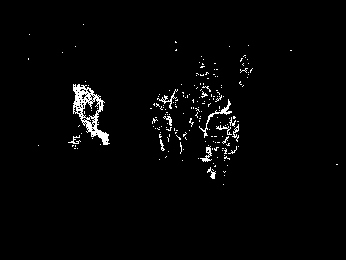person: (204, 97, 239, 180), (69, 83, 109, 147), (169, 87, 194, 155), (149, 93, 172, 153)
